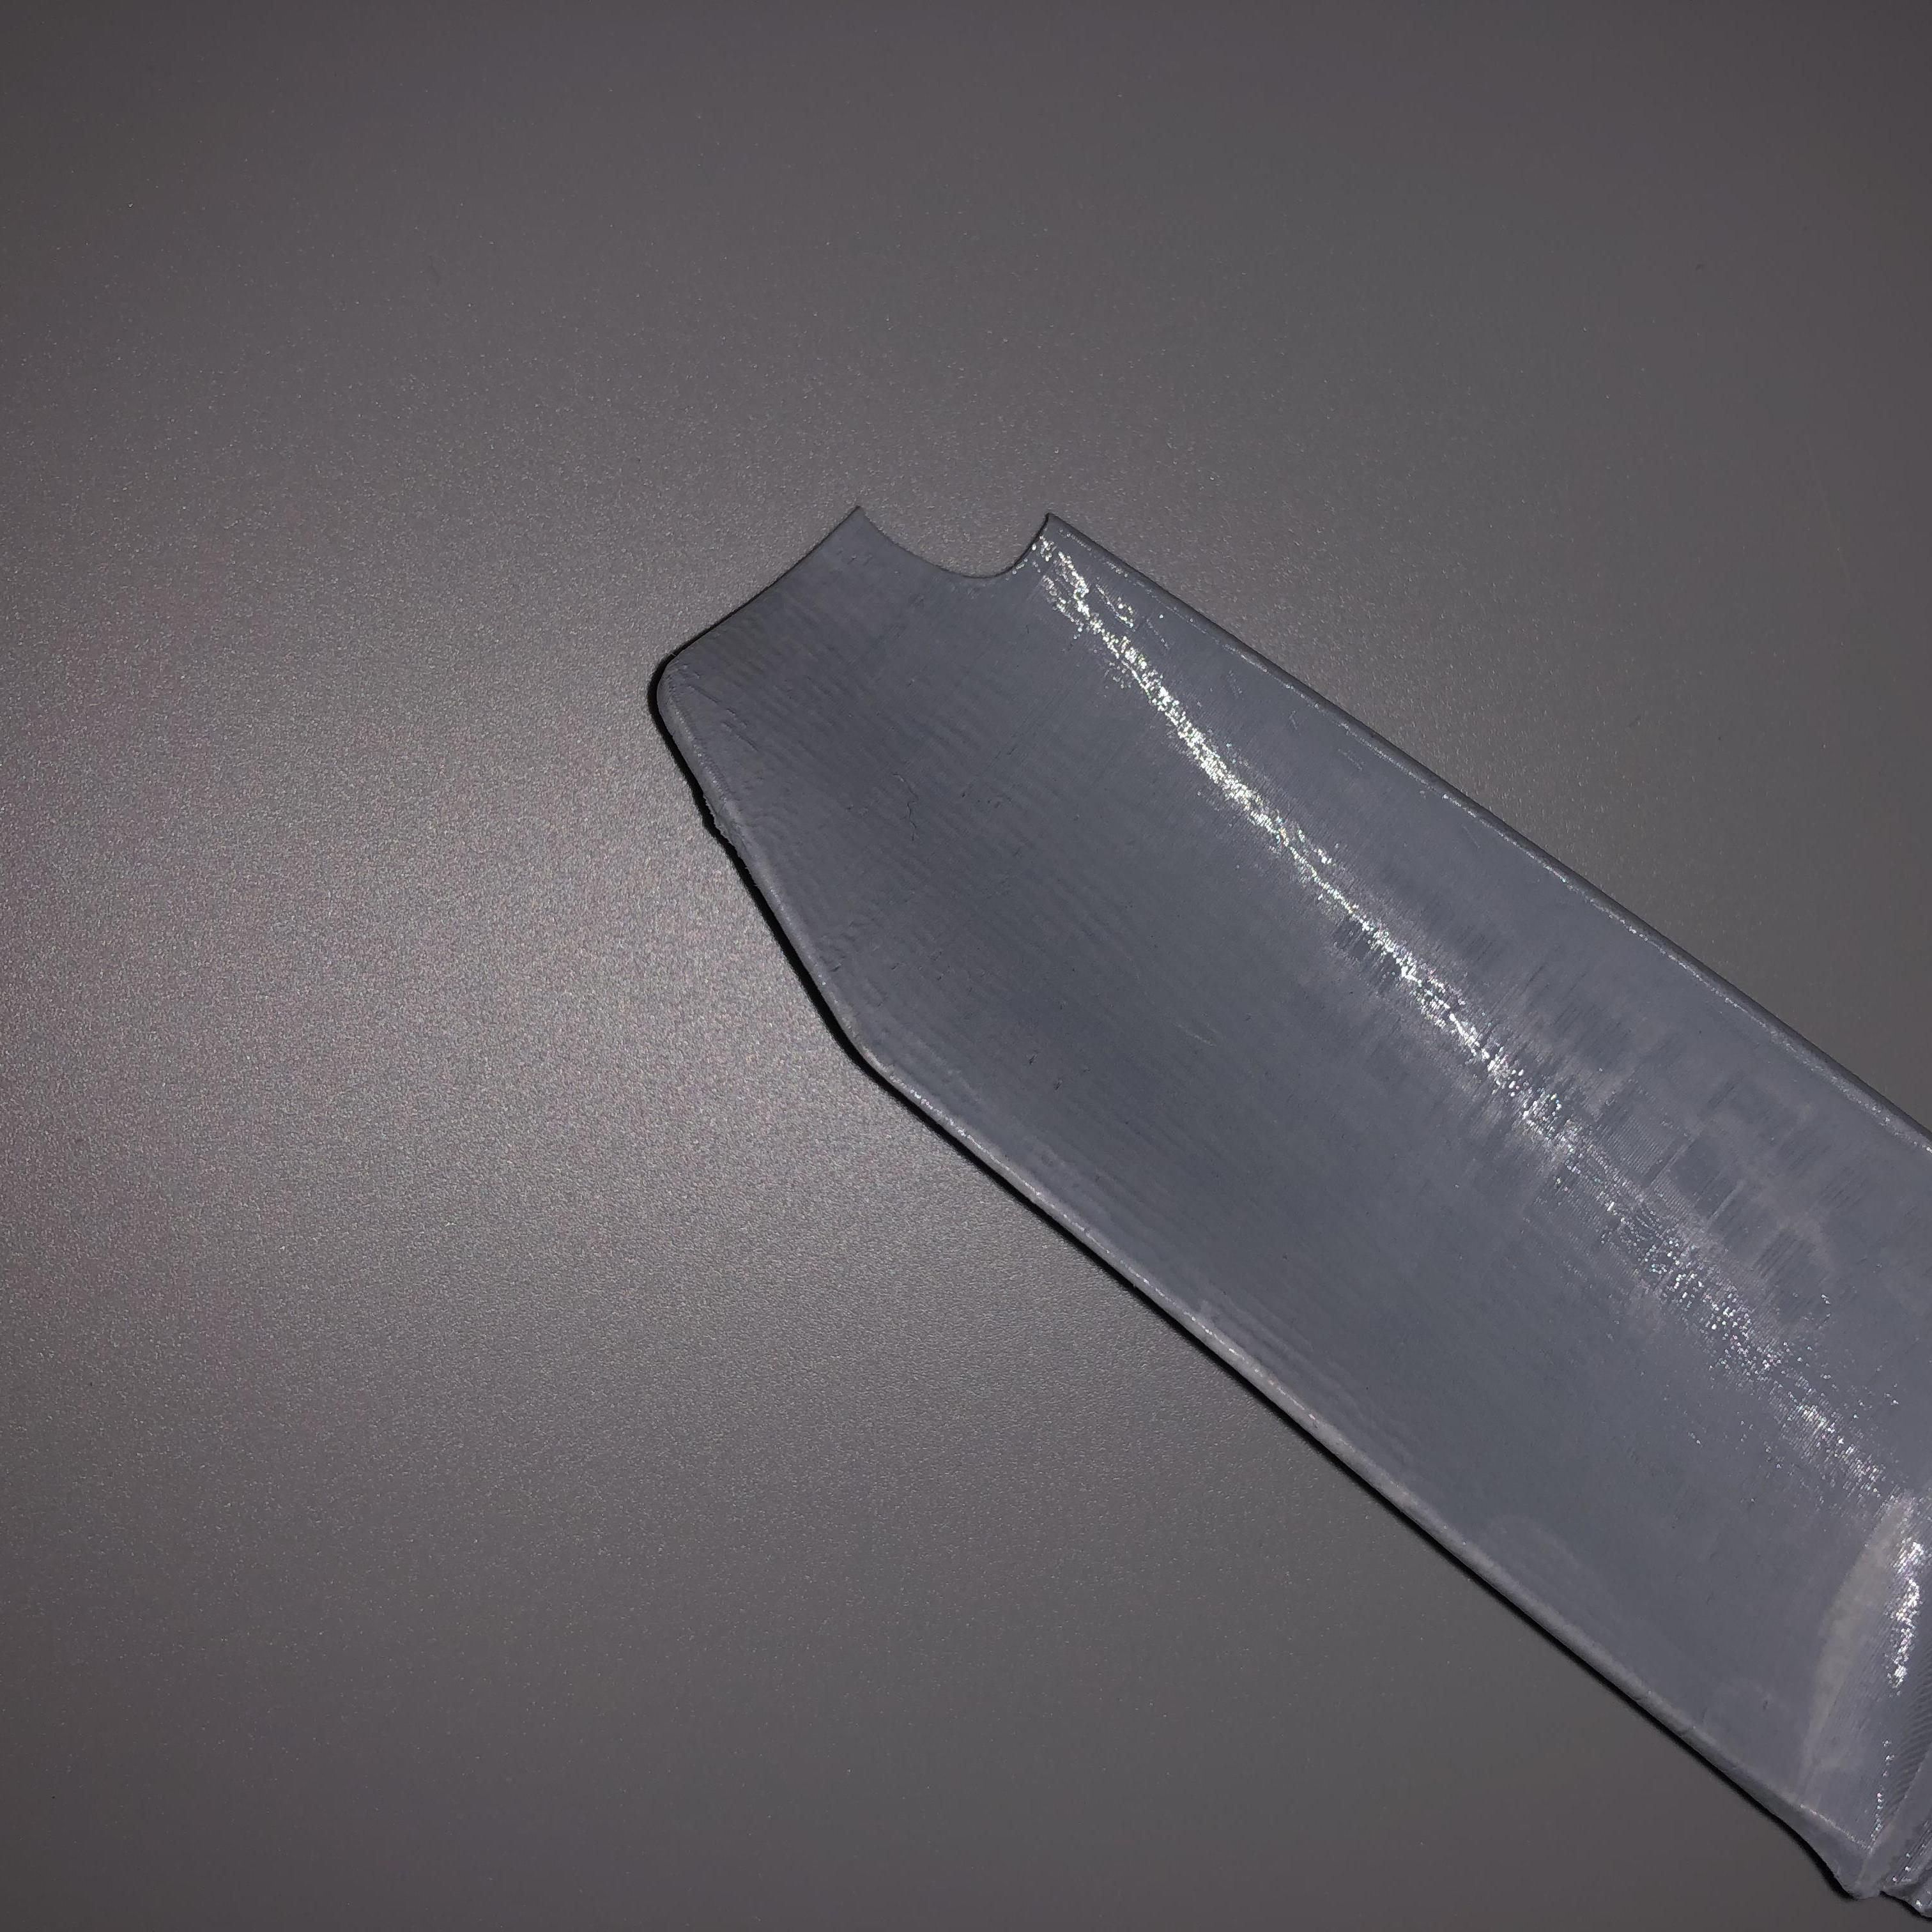fracture: (862, 508, 1083, 577)
